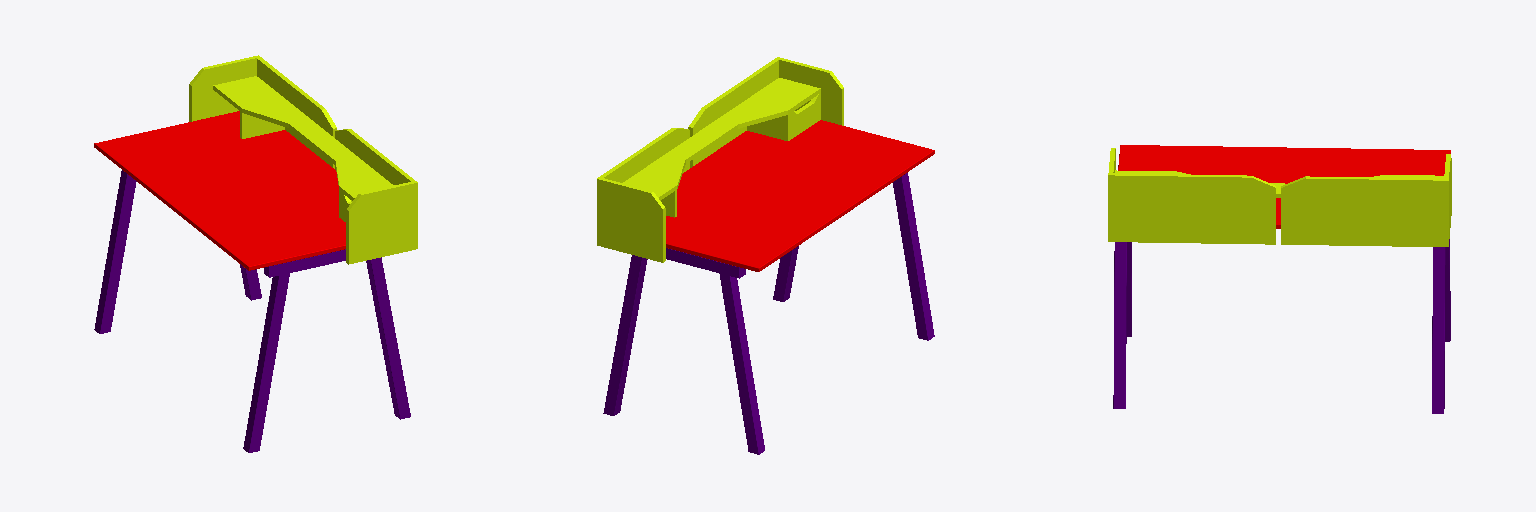
The model's file is Desk.obj.
3 renders of one model, left to right at view 1: azimuth 30°, elevation 25°; view 2: azimuth 150°, elevation 25°; view 3: azimuth 270°, elevation 25°, orthographic.
Parts seen in each view (by area): view 1: Desk; view 2: Desk; view 3: Desk.
Boxes of the visible parts, x1=… form: Desk: x1=94, y1=55, x2=417, y2=452; Desk: x1=597, y1=57, x2=934, y2=454; Desk: x1=1108, y1=145, x2=1451, y2=413.
Size of the model in its own units: 41.02 by 53 by 70.05.